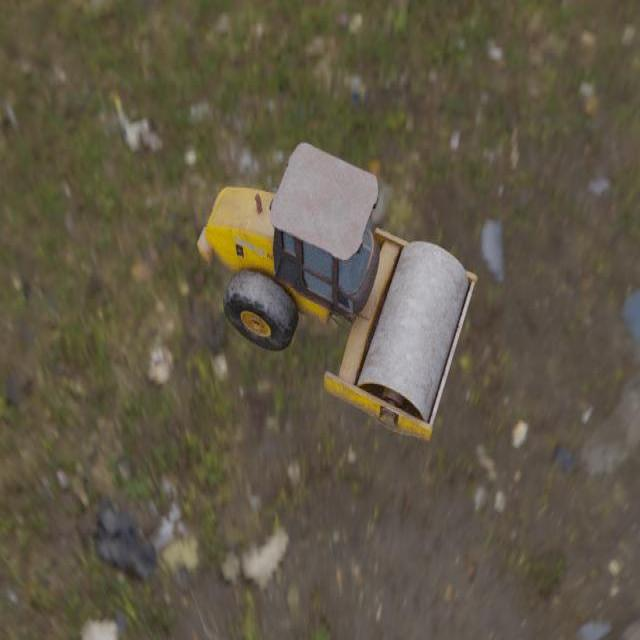Roller: (196, 142, 477, 442)
